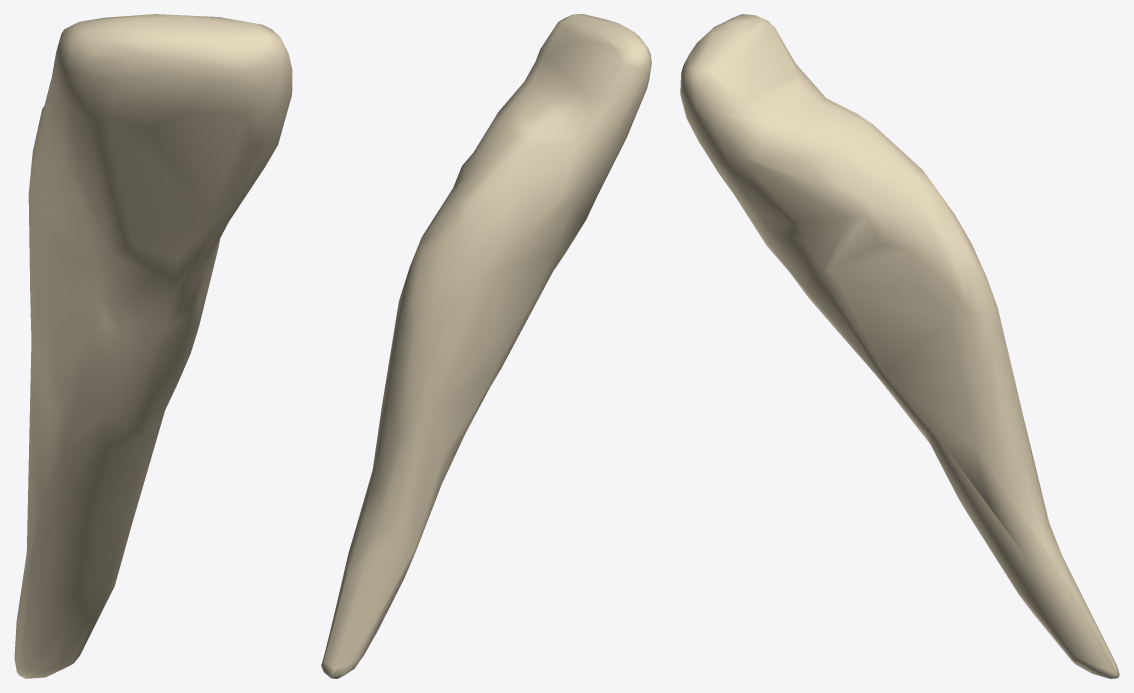
File: esqueleto-lower-lateral-incisor-r.glb
3 views of the same model, side by side, from view 1: azimuth 30°, elevation 25°; view 2: azimuth 150°, elevation 25°; view 3: azimuth 270°, elevation 25° (orthographic). The views are drawn at different scales.
Parts seen in each view (by area): view 1: Lower lateral incisor.r; view 2: Lower lateral incisor.r; view 3: Lower lateral incisor.r.
Part boxes in pixels (x1,y1,x2,y2): Lower lateral incisor.r: (14,14,292,678); Lower lateral incisor.r: (321,14,651,678); Lower lateral incisor.r: (680,14,1119,678).
Size of the model in its own units: 0.00769 by 0.0245 by 0.0164.
